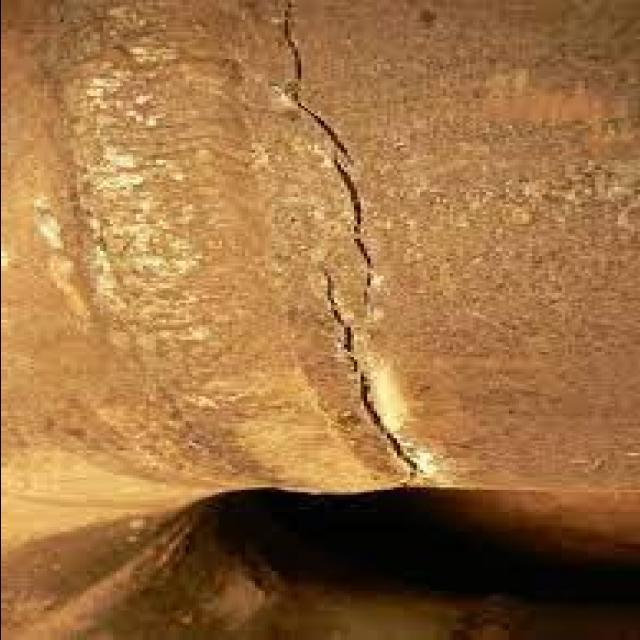Crack: (272, 0, 381, 319), (313, 249, 425, 487)
